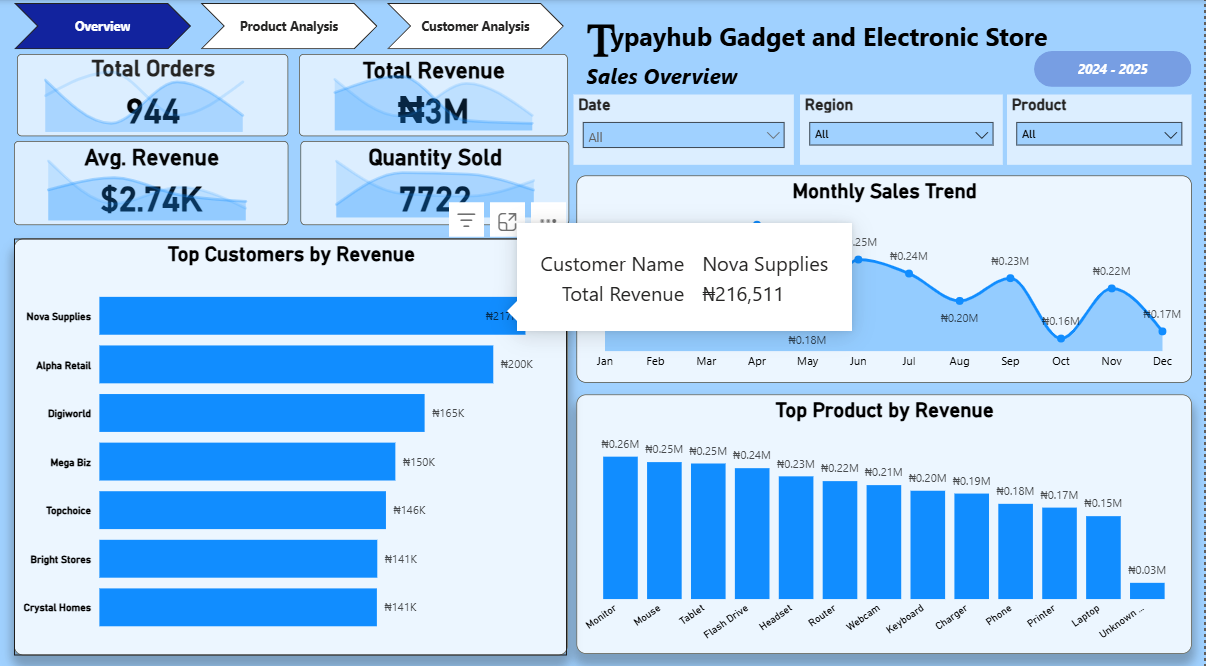

What the dashboard file says about the page in this screenshot:
{"tool":"powerbi","page":{"name":"Overview","canvas":[1280,720],"ordinal":0},"visuals":[{"type":"shape","box":[613.3,3.2,653.1,38.2],"z":0},{"type":"card","title":"Total Orders","fields":{"Values":["Calender.Total Orders"]},"box":[19.1,57.3,288.3,87.6],"z":1000},{"type":"slicer","title":"Product","fields":{"Values":["Cleaned_Sales_Data.Product"]},"box":[1070.4,100.4,195.9,74.9],"z":2000},{"type":"slicer","title":"Region","fields":{"Values":["Cleaned_Sales_Data.Region"]},"box":[850.6,100.4,215,74.9],"z":3000},{"type":"slicer","title":"Date","fields":{"Values":["Cleaned_Sales_Data.Order Date"]},"box":[610.1,100.4,234.2,74.9],"z":4000},{"type":"card","title":"Quantity Sold","fields":{"Values":["Calender.Total Quantity Sold"]},"box":[320.2,149.7,285.1,89.2],"z":5000},{"type":"card","title":"Avg. Revenue","fields":{"Values":["Calender.Avg Revenue"]},"box":[15.9,149.7,291.5,89.2],"z":6000},{"type":"lineChart","fields":{"Y":["Calender.Total Orders"],"Category":["Calender.Quarter"],"Series":["Calender.Year"]},"box":[15.9,62.1,275.6,82.8],"z":7000},{"type":"card","title":"Total Revenue","fields":{"Values":["Calender.Total Revenue"]},"box":[318.6,57.3,285.1,87.6],"z":8000},{"type":"columnChart","title":"Top Product by Revenue","fields":{"Category":["Cleaned_Sales_Data.Product"],"Y":["Calender.Total Revenue"]},"box":[613.3,418.9,653.1,275.6],"z":9000},{"type":"lineChart","fields":{"Category":["Calender.Quarter"],"Series":["Calender.Year"],"Y":["Calender.Total Revenue"]},"box":[323.4,60.5,275.6,82.8],"z":10000},{"type":"lineChart","fields":{"Category":["Calender.Quarter"],"Series":["Calender.Year"],"Y":["Calender.Avg Revenue"]},"box":[19.1,156.1,275.6,82.8],"z":11000},{"type":"lineChart","fields":{"Category":["Calender.Quarter"],"Series":["Calender.Year"],"Y":["Calender.Total Quantity Sold"]},"box":[325,152.9,275.6,82.8],"z":12000},{"type":"barChart","title":"Top Customers by Revenue","fields":{"Y":["Calender.Total Revenue"],"Category":["Cleaned_Sales_Data.Customer Name"]},"box":[15.9,253.3,587.8,442.8],"z":13000},{"type":"lineChart","title":"Monthly Sales Trend","fields":{"Y":["Calender.Total Revenue"],"Category":["Calender.Month"]},"box":[613.3,186.4,653.1,219.8],"z":14000},{"type":"shape","title":"Typayhub Gadget and Electronic Store","box":[631.4,3,501.2,69.7],"z":15000},{"type":"shape","box":[611.7,55.8,184.8,47.8],"z":16000},{"type":"shape","title":"Typayhub Gadget and Electronic Store","box":[604.2,0,71.2,80.3],"z":17000},{"type":"pageNavigator","box":[15.9,3.2,584.6,49.4],"z":18000},{"type":"shape","box":[1099.1,54.2,167.3,38.2],"z":19000}]}

Visuals, with their boxes in screenshot pixels (x1, y1, x2, y2), scaled from the page's 1280x720 canvas onto the 1206x666 screenshot:
shape: [578, 3, 1193, 38]
"Total Orders" card: [18, 53, 290, 134]
"Product" slicer: [1009, 93, 1193, 162]
"Region" slicer: [801, 93, 1004, 162]
"Date" slicer: [575, 93, 795, 162]
"Quantity Sold" card: [302, 138, 570, 221]
"Avg. Revenue" card: [15, 138, 290, 221]
lineChart - Calender.Total Orders x Calender.Quarter: [15, 57, 275, 134]
"Total Revenue" card: [300, 53, 569, 134]
"Top Product by Revenue" columnChart: [578, 387, 1193, 642]
lineChart - Calender.Quarter x Calender.Year: [305, 56, 564, 133]
lineChart - Calender.Quarter x Calender.Year: [18, 144, 278, 221]
lineChart - Calender.Quarter x Calender.Year: [306, 141, 566, 218]
"Top Customers by Revenue" barChart: [15, 234, 569, 644]
"Monthly Sales Trend" lineChart: [578, 172, 1193, 376]
"Typayhub Gadget and Electronic Store" shape: [595, 3, 1067, 67]
shape: [576, 52, 750, 96]
"Typayhub Gadget and Electronic Store" shape: [569, 0, 636, 74]
pageNavigator: [15, 3, 566, 49]
shape: [1036, 50, 1193, 85]
